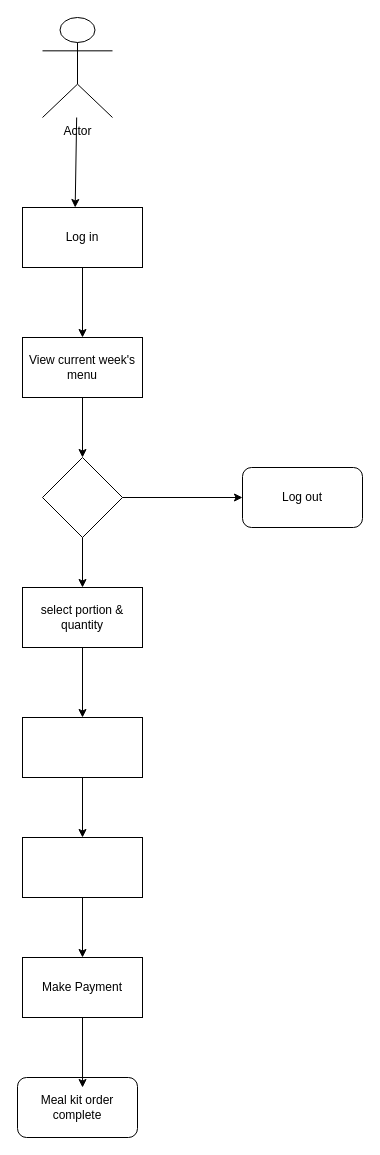
This 380x1155 diagram has some shape labels left out. Each missing label, with the centre of its shape:
Confirm Order: pixel 82 867
Enter Shipping Address: pixel 82 747
want to buy meals kit?: pixel 82 497
